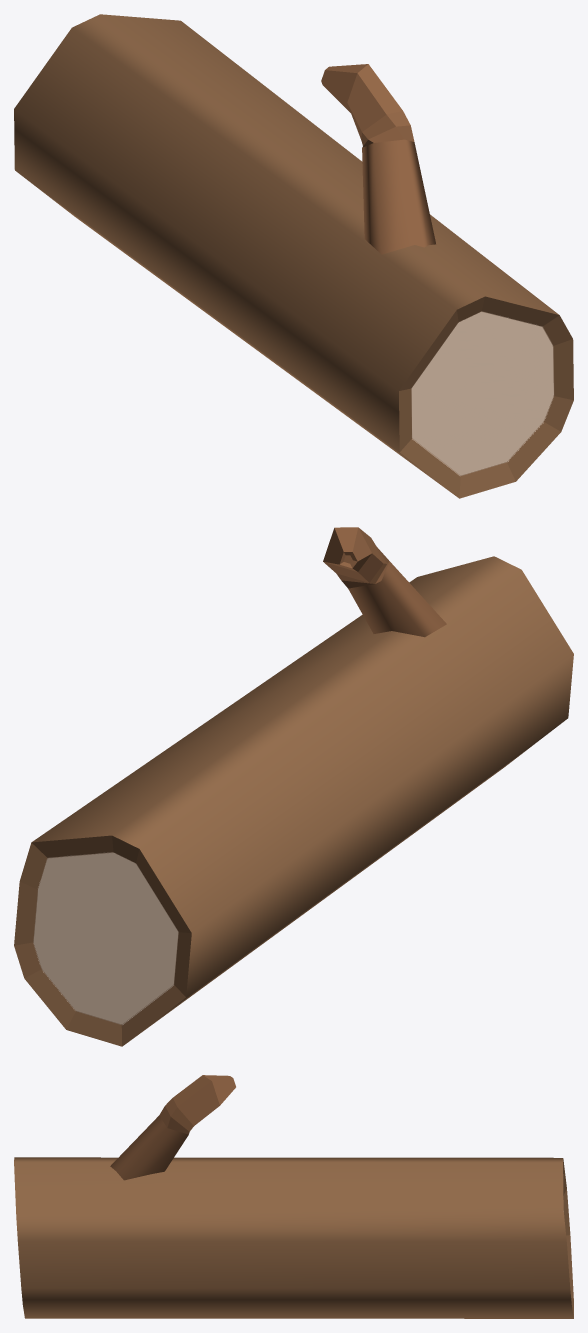
The model's file is LogWithBranch 1.fbx.
3 views of the same model, one above another, from view 1: azimuth 30°, elevation 25°; view 2: azimuth 150°, elevation 25°; view 3: azimuth 270°, elevation 25° (orthographic). The views are drawn at different scales.
Visible parts, largest first — view 1: pCylinder1, pCylinder2; view 2: pCylinder1, pCylinder2; view 3: pCylinder1, pCylinder2.
Part boxes in pixels (box(x1,y1,x2,y2)): pCylinder1: box(14, 14, 573, 498); pCylinder2: box(321, 64, 435, 254); pCylinder1: box(14, 556, 573, 1046); pCylinder2: box(323, 527, 446, 637); pCylinder1: box(14, 1157, 573, 1318); pCylinder2: box(110, 1075, 235, 1180).
Size of the model in its own units: 1.42 by 2.51 by 5.45.
2 materials, 2 textured.
